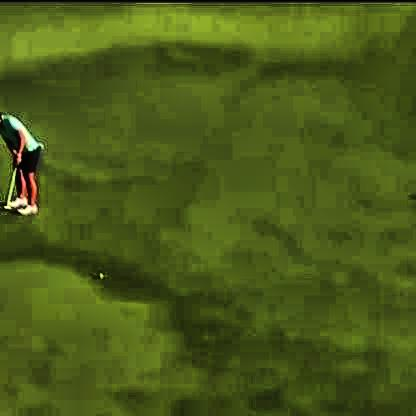golfball: (96, 268, 101, 275)
